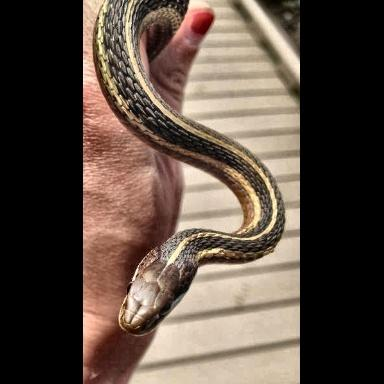snake: (94, 0, 285, 336)
